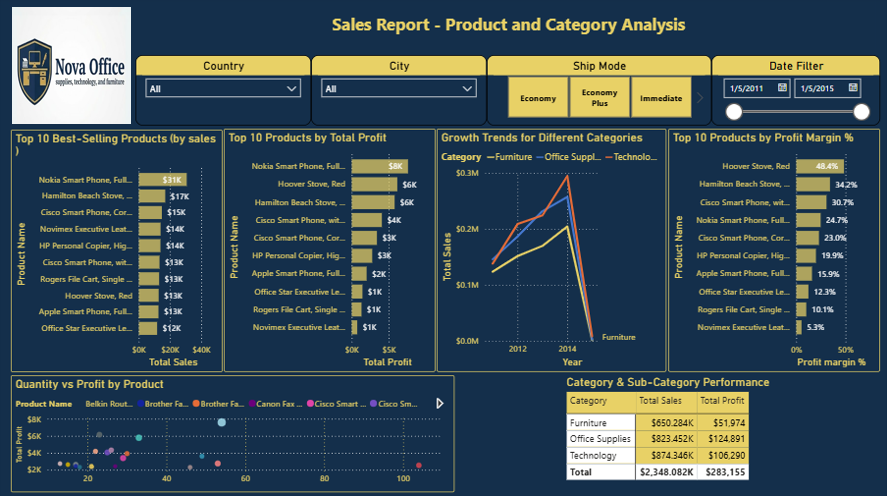

Layout of this report page (visuals, bound fields, positions):
{"tool":"powerbi","page":{"name":"Product&Category Analysis ","canvas":[1280,720],"ordinal":2},"visuals":[{"type":"slicer","title":"Date Filter ","fields":{"Values":["Dim_Date.Date"]},"box":[1027.6,83.6,243.8,102],"z":0},{"type":"slicer","title":"Ship Mode ","fields":{"Values":["Dim_Ship Mode.Ship Mode"]},"box":[703,83.6,324.6,102],"z":1000},{"type":"slicer","title":"City","fields":{"Values":["Dim_City.City"]},"box":[449.3,83.6,253.7,102],"z":2000},{"type":"slicer","title":"Country","fields":{"Values":["Dim_City.City"]},"box":[195.6,83.6,253.7,102],"z":3000},{"type":"textbox","box":[203.5,0,1061.2,75.1],"z":4000},{"type":"clusteredBarChart","title":"Top 10 Best-Selling Products (by sales )","fields":{"Category":["Dim_Product.Product Name"],"Y":["-Measures.Total Sales"]},"box":[15.6,191.3,306.1,350.1],"z":5000},{"type":"clusteredBarChart","title":"Top 10 Products by Total Profit ","fields":{"Category":["Dim_Product.Product Name"],"Y":["-Measures.Total Profit"]},"box":[323.1,189.9,306.1,351.5],"z":6000},{"type":"clusteredBarChart","title":"Top 10 Products by Profit Margin %","fields":{"Category":["Dim_Product.Product Name"],"Y":["-Measures.Total profit margin %"]},"box":[965.2,189.9,306.1,351.5],"z":7000},{"type":"pivotTable","title":"Category & Sub-Category Performance","fields":{"Rows":["Dim_Category.Category"],"Values":["-Measures.Total Sales","-Measures.Total Profit"]},"box":[813.5,545.7,369.9,174.3],"z":9000},{"type":"scatterChart","title":"Quantity vs Profit by Product","fields":{"X":["-Measures.Total Quantity"],"Y":["-Measures.Total Profit"],"Size":["-Measures.Total Sales"],"Series":["Dim_Product.Product Name"]},"box":[15.6,545.7,640.6,168.7],"z":10000},{"type":"lineChart","title":"Growth Trends for Different Categories","fields":{"Category":["Dim_Date.Year"],"Y":["-Measures.Total Sales"],"Series":["Dim_Category.Category"]},"box":[630.7,189.9,331.7,351.5],"z":11000}]}

Visuals, with their boxes in screenshot pixels (x1, y1, x2, y2), scaled from the page's 1280x720 canvas onto the 887x496 screenshot:
"Date Filter " slicer: (left=712, top=58, right=881, bottom=128)
"Ship Mode " slicer: (left=487, top=58, right=712, bottom=128)
"City" slicer: (left=311, top=58, right=487, bottom=128)
"Country" slicer: (left=136, top=58, right=311, bottom=128)
textbox: (left=141, top=0, right=876, bottom=52)
"Top 10 Best-Selling Products (by sales )" clusteredBarChart: (left=11, top=132, right=223, bottom=373)
"Top 10 Products by Total Profit " clusteredBarChart: (left=224, top=131, right=436, bottom=373)
"Top 10 Products by Profit Margin %" clusteredBarChart: (left=669, top=131, right=881, bottom=373)
"Category & Sub-Category Performance" pivotTable: (left=564, top=376, right=820, bottom=495)
"Quantity vs Profit by Product" scatterChart: (left=11, top=376, right=455, bottom=492)
"Growth Trends for Different Categories" lineChart: (left=437, top=131, right=667, bottom=373)
